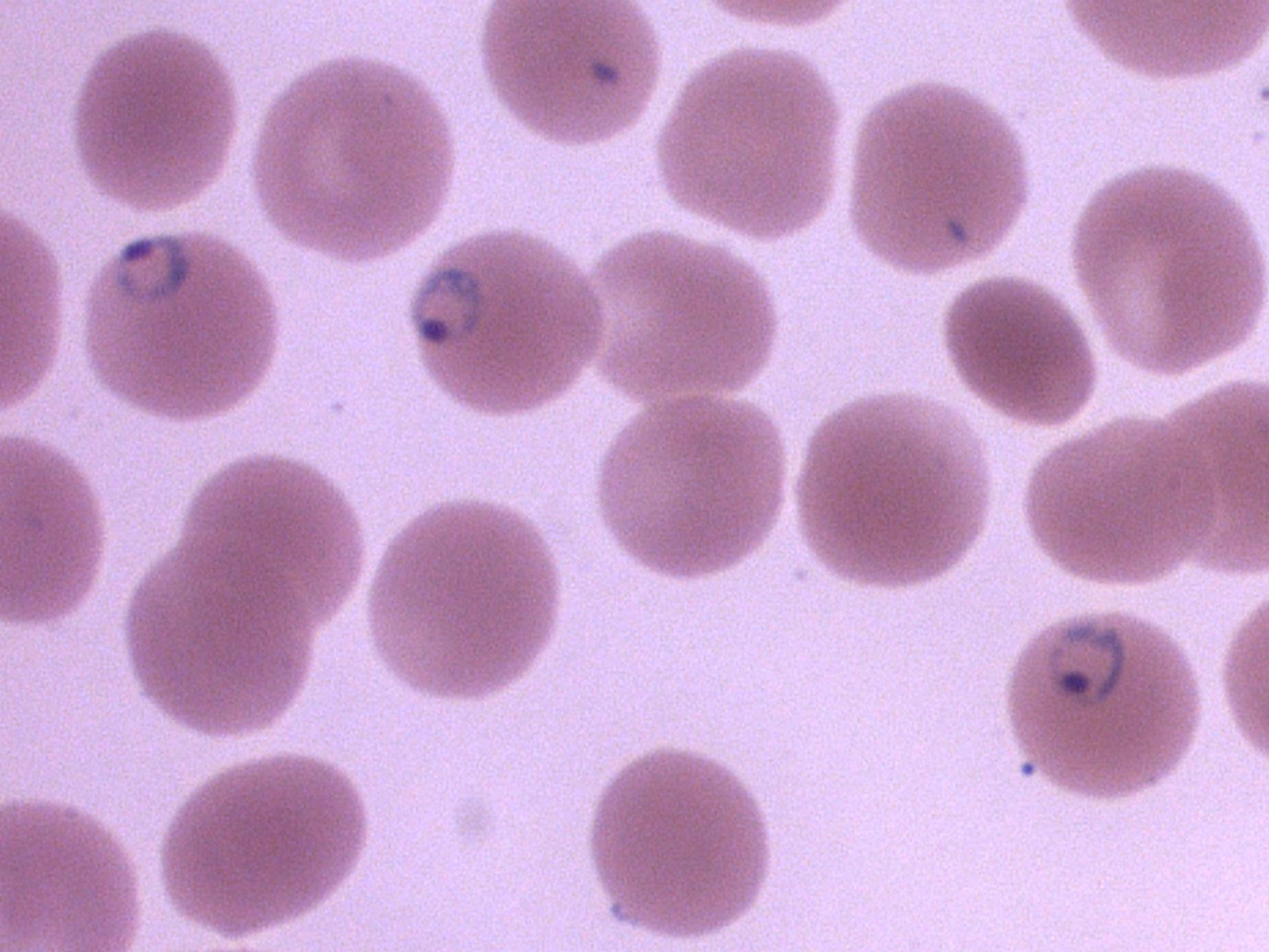Infected: (88, 231, 279, 418), (410, 229, 601, 412), (1009, 614, 1197, 799)
Uninfected: (126, 454, 364, 733), (255, 59, 453, 258), (369, 501, 563, 700), (1074, 167, 1263, 371), (798, 394, 991, 587), (162, 755, 365, 936), (657, 53, 842, 241), (849, 83, 1030, 272), (597, 396, 784, 577), (1029, 411, 1222, 585), (590, 751, 769, 934), (595, 234, 781, 400), (77, 30, 242, 210), (483, 0, 659, 145), (943, 278, 1100, 423)
